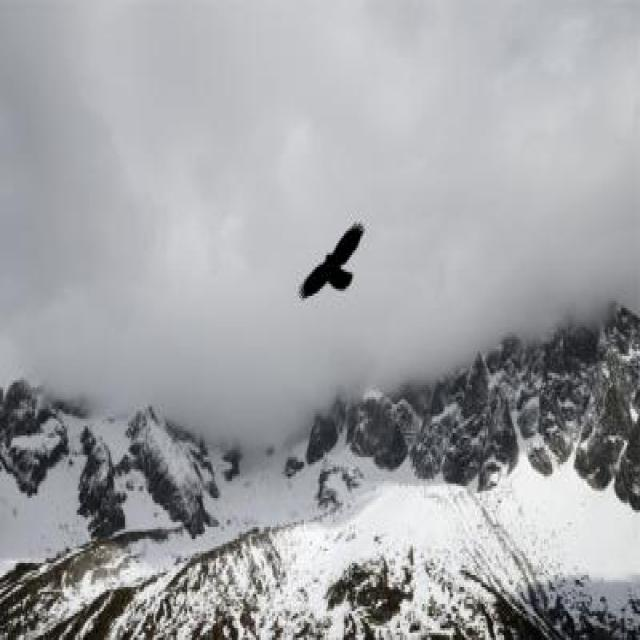birds: (291, 213, 375, 311)
